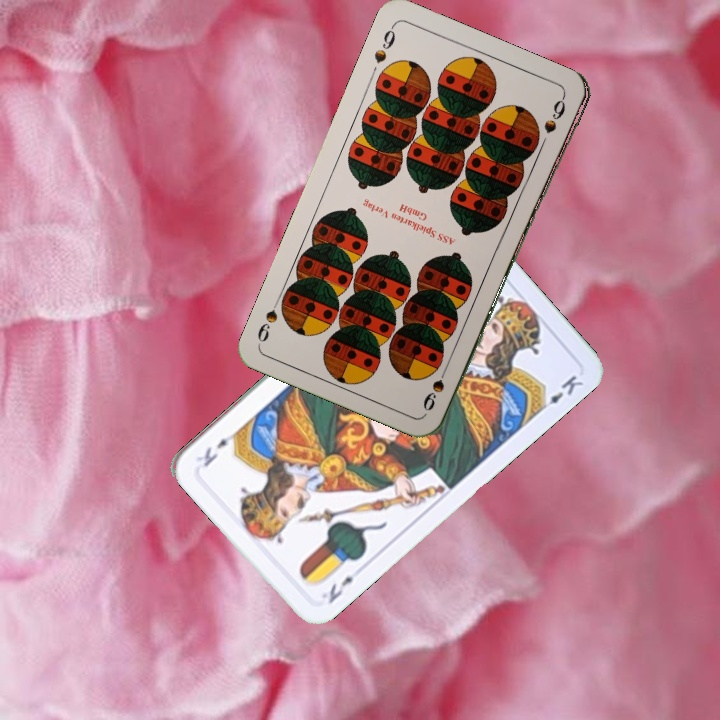EK: (317, 572, 356, 607)
S9: (419, 358, 452, 414), (370, 20, 398, 66)
